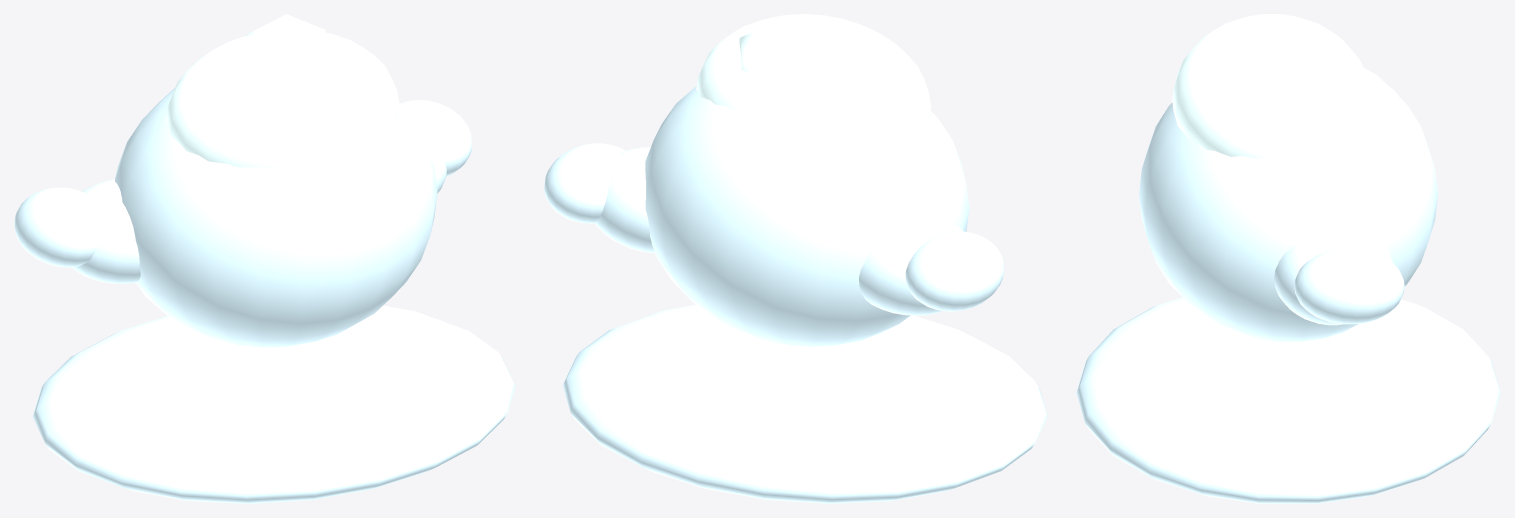
Rendered from gel_ice.glb.
The picture shows the model from 3 angles, left to right: view 1: azimuth 30°, elevation 25°; view 2: azimuth 150°, elevation 25°; view 3: azimuth 270°, elevation 25°; orthographic projection.
Visible parts, largest first — view 1: gel_ice; view 2: gel_ice; view 3: gel_ice.
Boxes of the visible parts, box(x1,y1,x2,y2) form: gel_ice: box(14, 14, 515, 503); gel_ice: box(544, 14, 1047, 503); gel_ice: box(1076, 14, 1500, 503).
Size of the model in its own units: 1.82 by 1.65 by 1.53.
